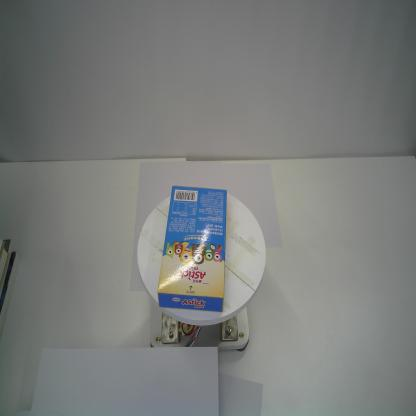Dessert: (156, 184, 227, 313)
